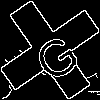G: (25, 25, 84, 85)
